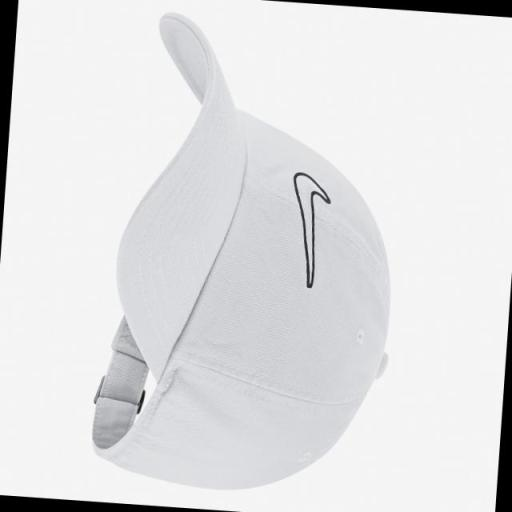Nike: (283, 172, 331, 290)
